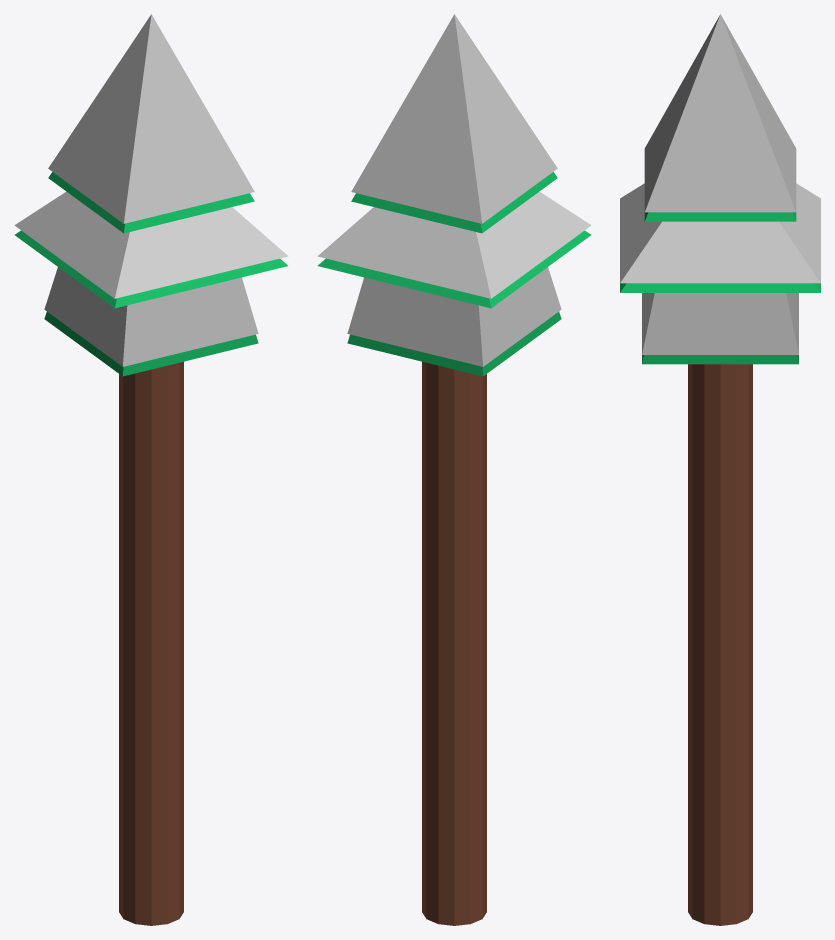
The model's file is Tree_15_winter_gradient_green_vc.fbx.
3 renders of one model, left to right at view 1: azimuth 30°, elevation 25°; view 2: azimuth 150°, elevation 25°; view 3: azimuth 270°, elevation 25°, orthographic.
Parts seen in each view (by area): view 1: Tree_15_winter_gradient_green_vc; view 2: Tree_15_winter_gradient_green_vc; view 3: Tree_15_winter_gradient_green_vc.
Part boxes in pixels (bbox=[...]): Tree_15_winter_gradient_green_vc: bbox=[14, 14, 288, 925]; Tree_15_winter_gradient_green_vc: bbox=[317, 14, 591, 925]; Tree_15_winter_gradient_green_vc: bbox=[620, 14, 820, 925].
Size of the model in its own units: 68.73 by 339 by 68.73.
